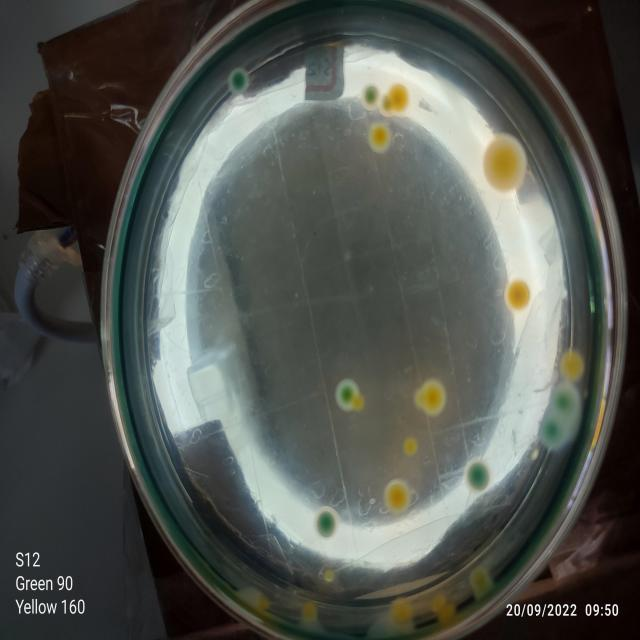green: (312, 505, 341, 543), (552, 382, 578, 420), (539, 414, 567, 448), (464, 458, 491, 492), (335, 378, 358, 411), (228, 68, 248, 94), (361, 82, 380, 109)
yellow: (482, 134, 528, 196), (504, 278, 532, 314), (420, 381, 446, 417), (384, 478, 410, 512), (560, 351, 584, 382), (469, 568, 493, 598), (369, 122, 391, 154), (389, 84, 410, 115), (392, 596, 413, 624), (428, 591, 447, 614), (438, 602, 456, 624), (254, 594, 270, 614), (302, 602, 318, 620), (380, 94, 392, 116), (404, 438, 418, 455), (353, 395, 364, 411), (324, 570, 334, 583)
